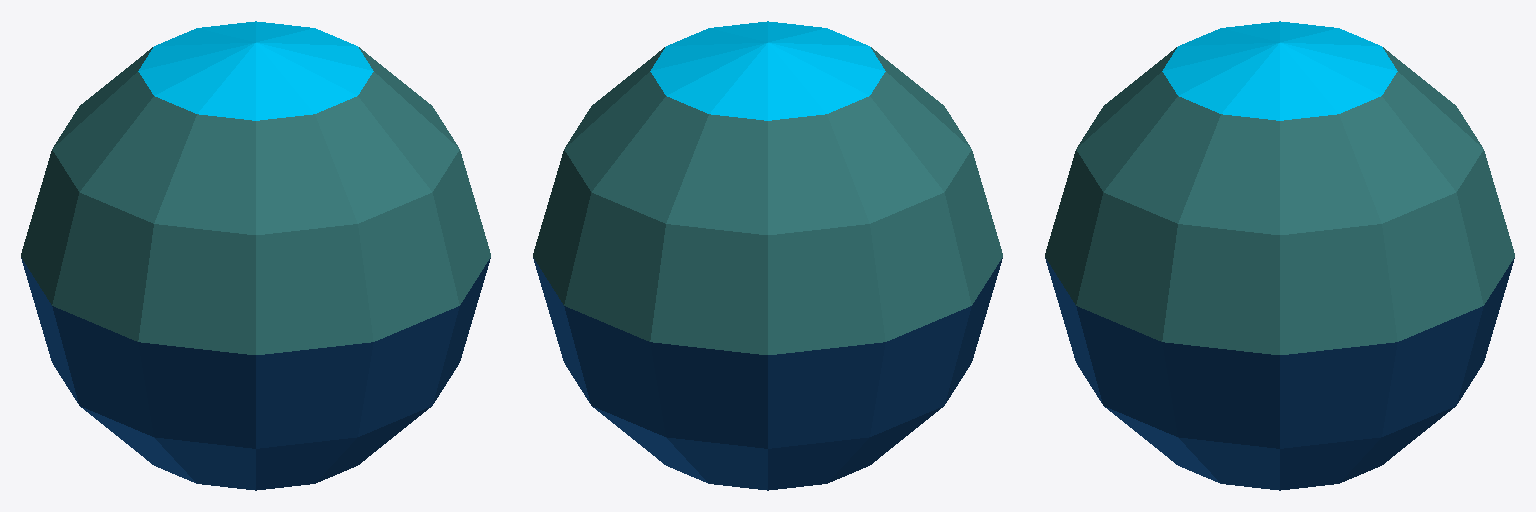
Rendered from ball.obj.
3 renders of one model, left to right at view 1: azimuth 30°, elevation 25°; view 2: azimuth 150°, elevation 25°; view 3: azimuth 270°, elevation 25°, orthographic.
Visible parts, largest first — view 1: ball.obj; view 2: ball.obj; view 3: ball.obj.
Part boxes in pixels (x1,y1,x2,y2): ball.obj: (21, 21, 490, 490); ball.obj: (533, 21, 1002, 490); ball.obj: (1045, 21, 1514, 490).
Bounding box in the file's own units: 1 × 1 × 1.